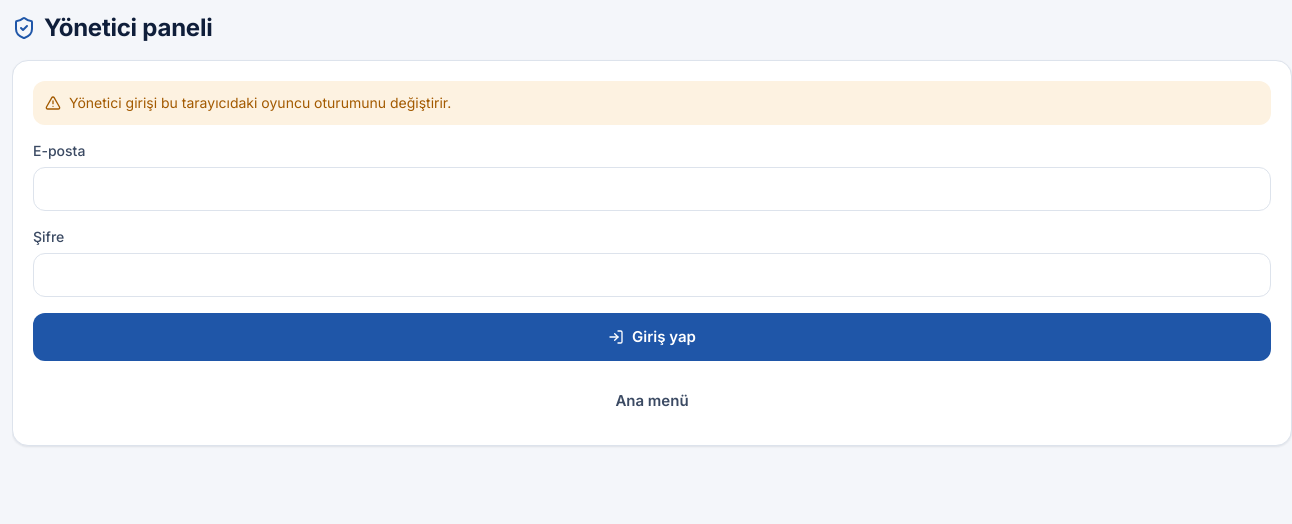
Test: AdminScreen giriş › boş form gönderilmez
This screenshot has width=1292, height=524.
Expected: the field labelled "E-posta" is shown, [33,167,1271,211]
Click the button "Giriş yap". click: x=652, y=337
box: [33,313,1271,361]
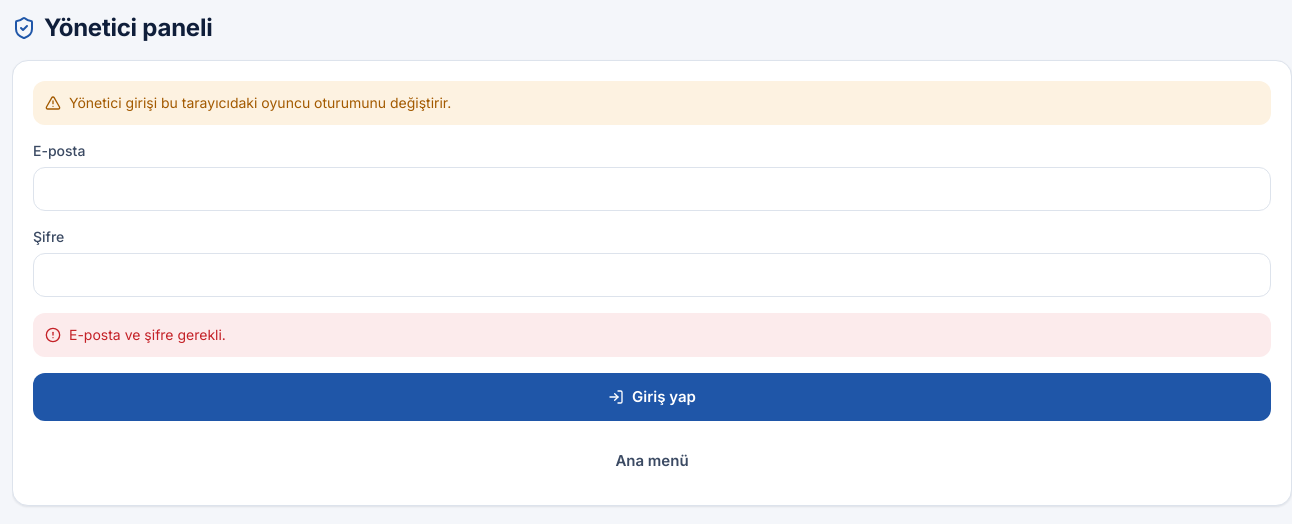
Expected: the message reads "E-posta ve şifre gerekli.", [69,326,226,343]
